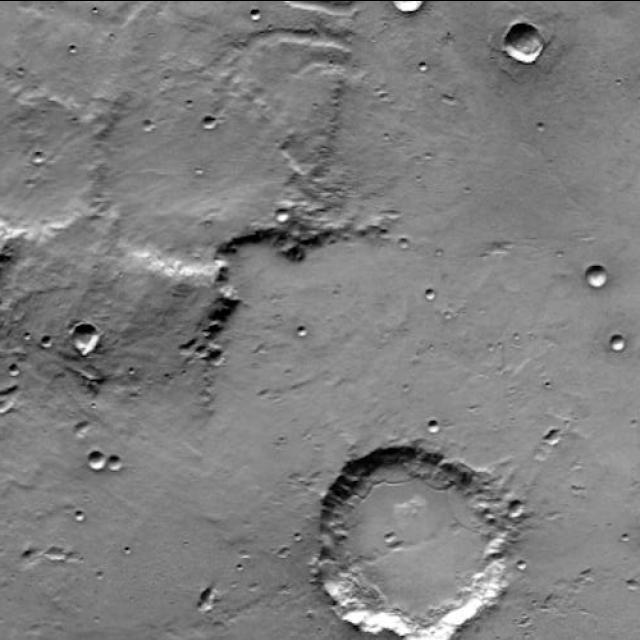crater: (300, 432, 522, 640), (530, 432, 640, 640), (557, 140, 640, 304), (574, 33, 640, 165)
